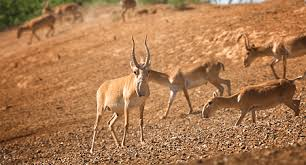saiga: (88, 35, 152, 148), (201, 76, 306, 129), (240, 33, 306, 80)
